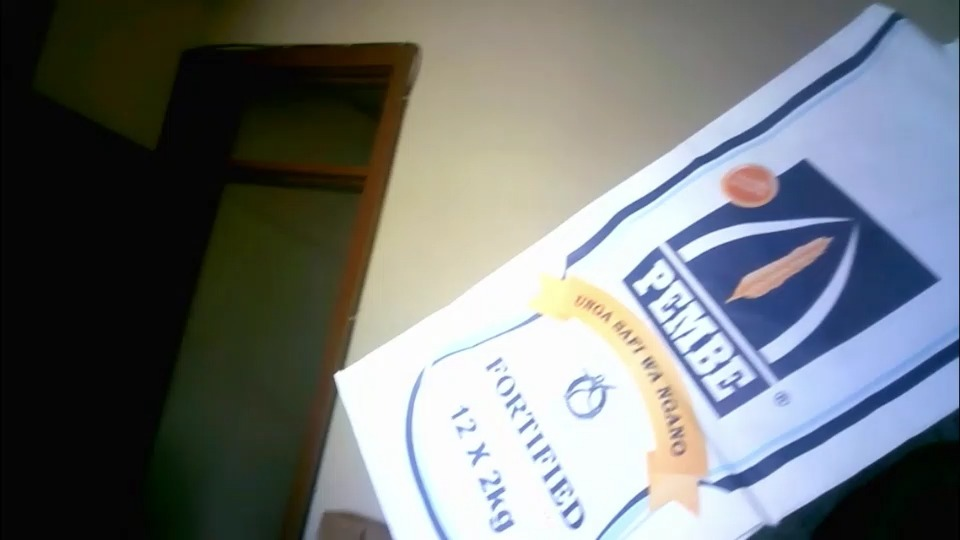wheat_flour_blue_label: (333, 6, 956, 540)
